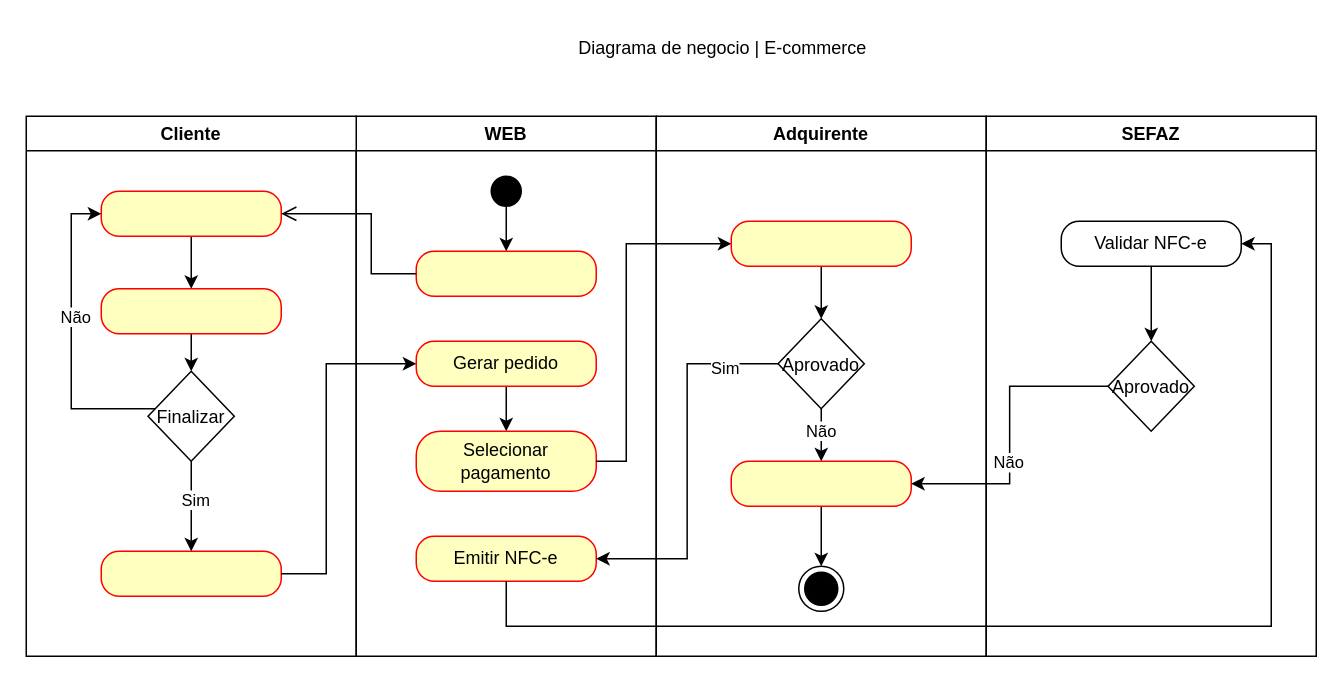
This 1343x683 diagram has some shape labels left out. Here are the shapes that lost their labels. From the top down, the centre of each, then its label:
At [190,213]: "Selecionar produtos".
At [820,243]: "Validar pagamento".
At [505,273]: "Dispor dos produtos".
At [190,310]: "Adicionar no carriho".
At [820,483]: "Avisa negociação".
At [190,573]: "Fazer Login".
